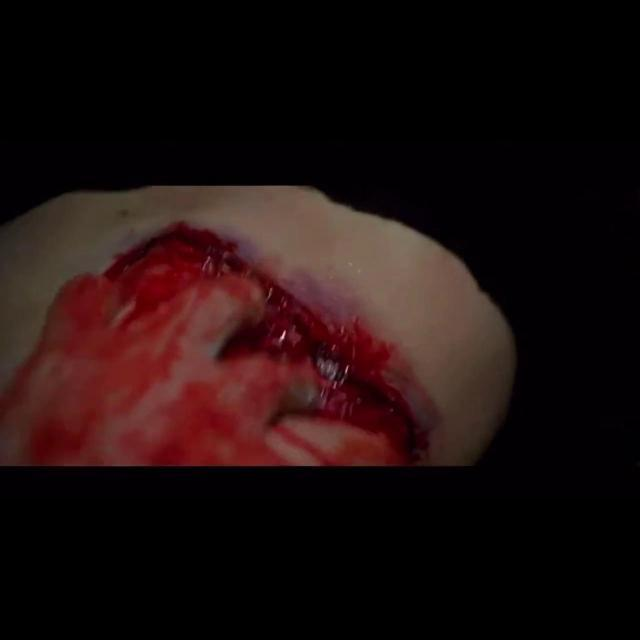blood: (0, 222, 440, 465), (0, 223, 426, 465)
